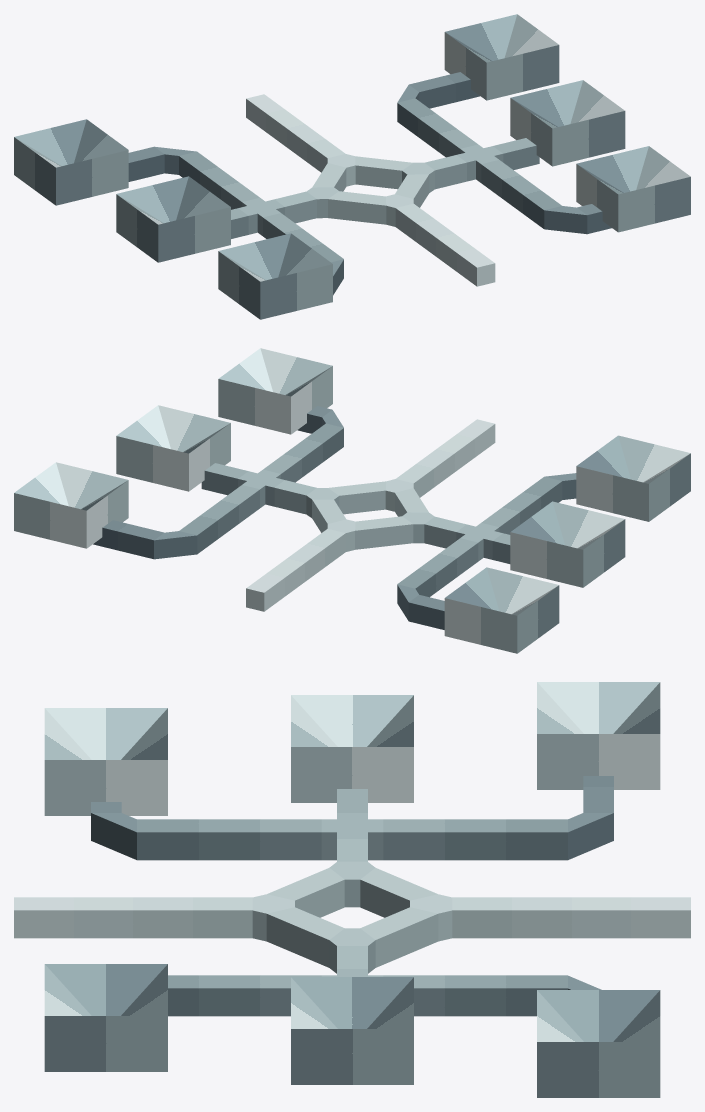
The model's file is station_affinitytinkerer_main.obj.
The picture shows the model from 3 angles, top to bottom: view 1: azimuth 30°, elevation 25°; view 2: azimuth 150°, elevation 25°; view 3: azimuth 270°, elevation 25°; orthographic projection. The views are drawn at different scales.
Visible parts, largest first — view 1: AFFINITYTINKERER_MAIN_Cube.001; view 2: AFFINITYTINKERER_MAIN_Cube.001; view 3: AFFINITYTINKERER_MAIN_Cube.001.
Part boxes in pixels (bbox=[...]): AFFINITYTINKERER_MAIN_Cube.001: bbox=[14, 14, 690, 319]; AFFINITYTINKERER_MAIN_Cube.001: bbox=[14, 348, 690, 653]; AFFINITYTINKERER_MAIN_Cube.001: bbox=[14, 682, 690, 1097].
Bounding box in the file's own units: 0.865 × 0.0938 × 0.6875.
